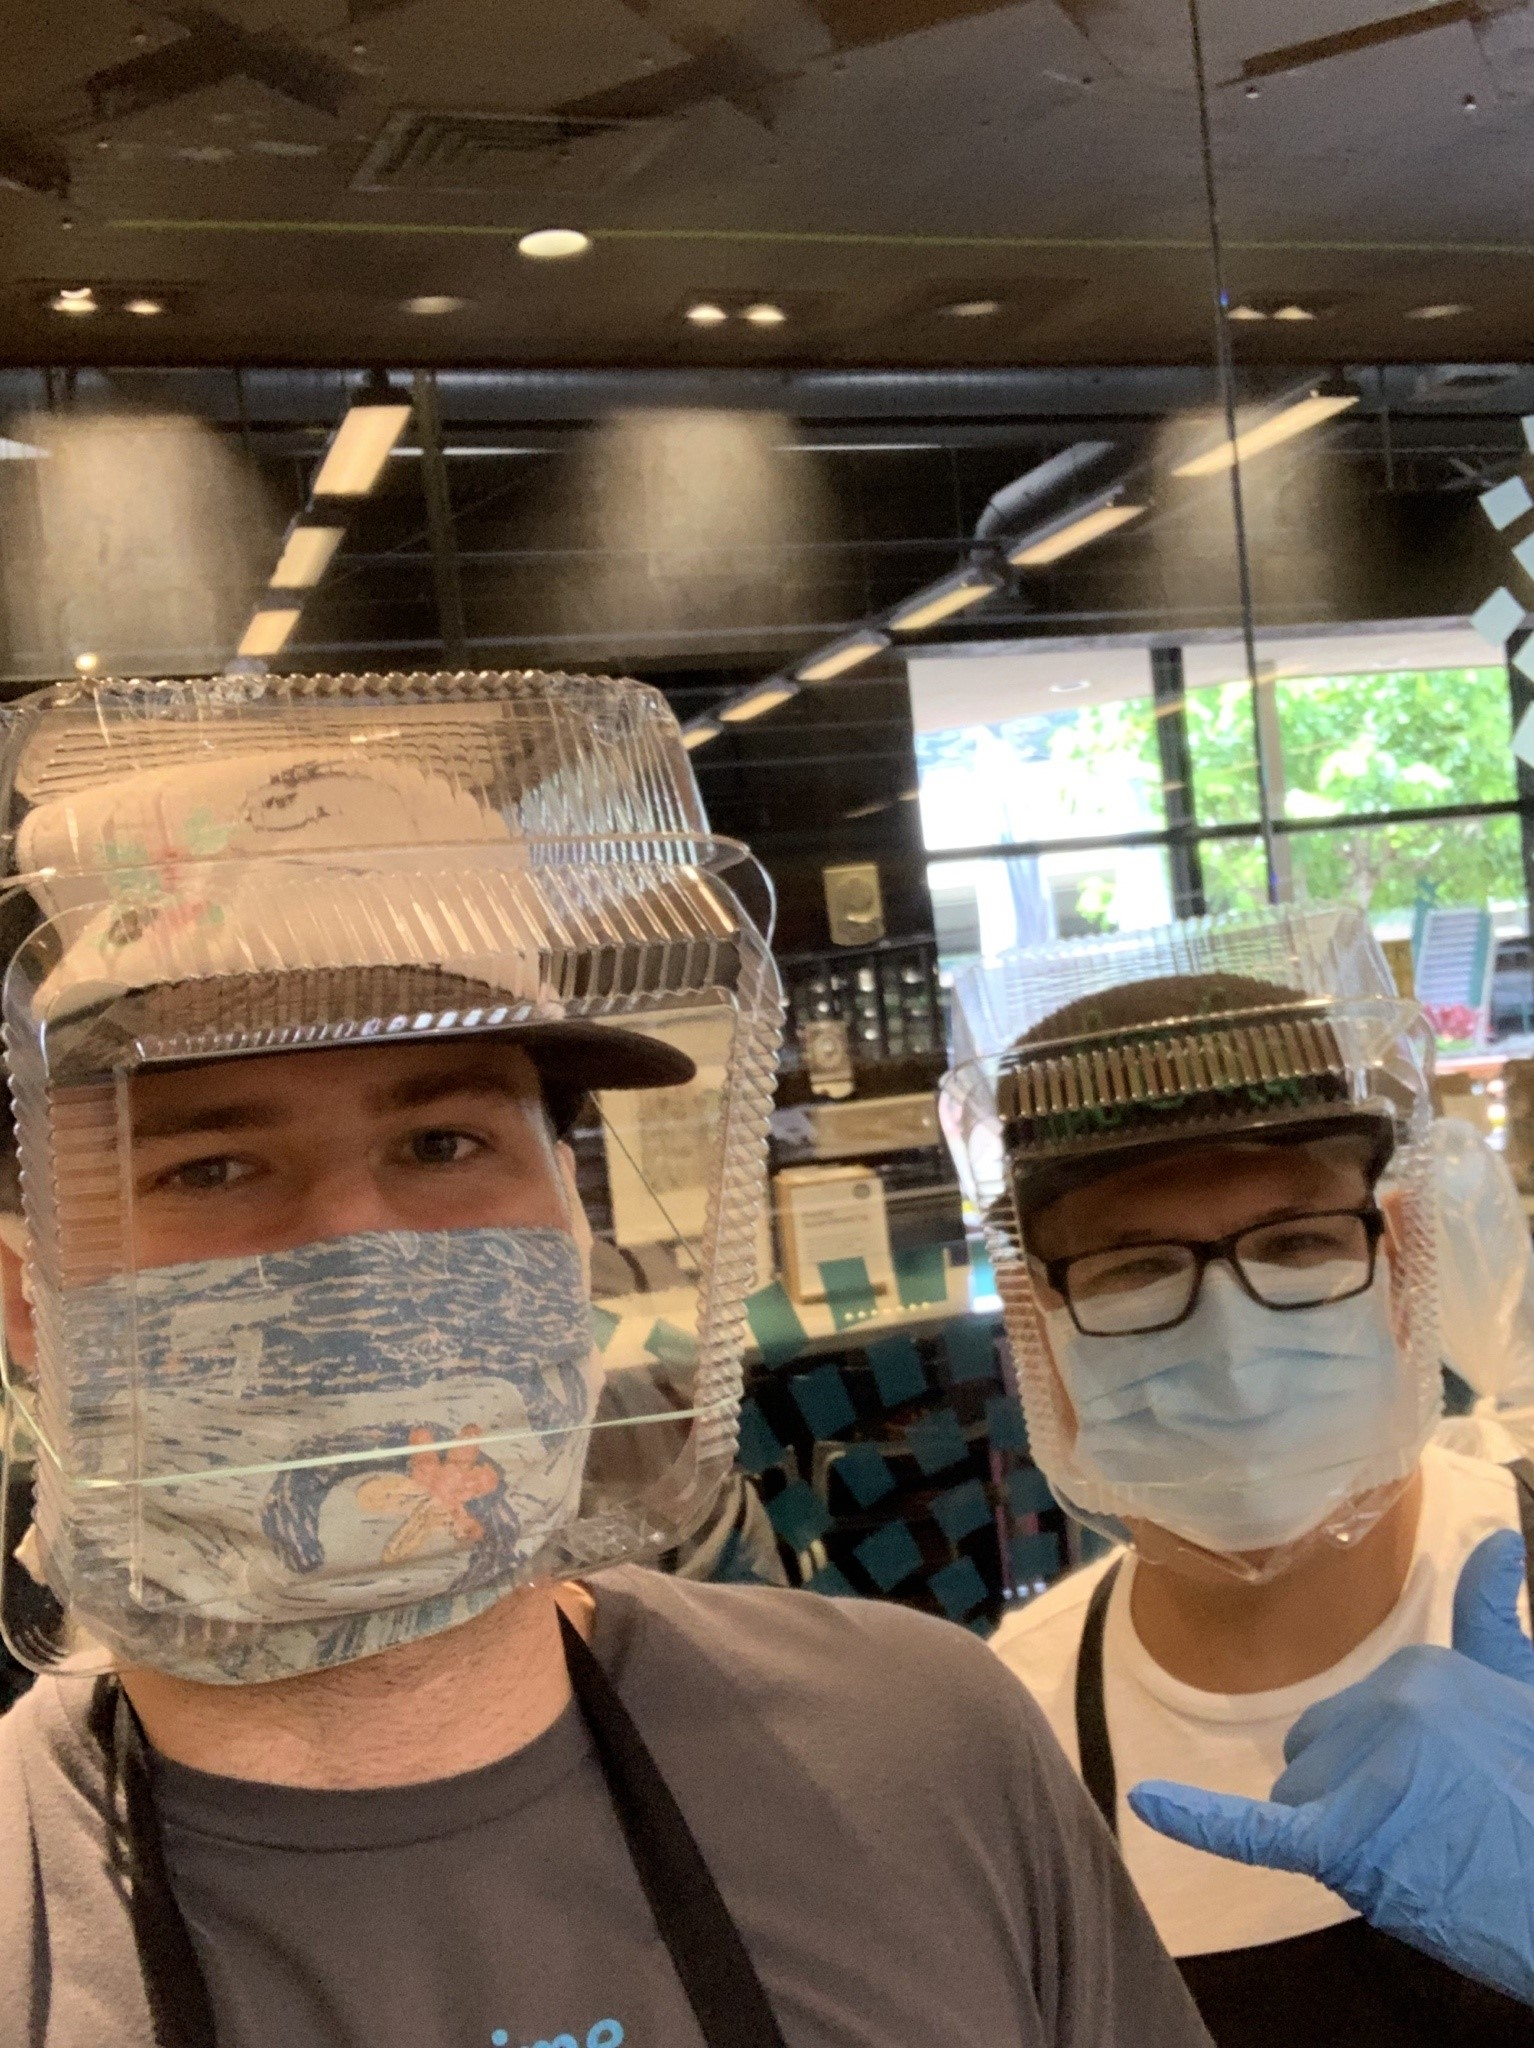face_with_mask: (7, 661, 788, 1682), (962, 904, 1424, 1556)
